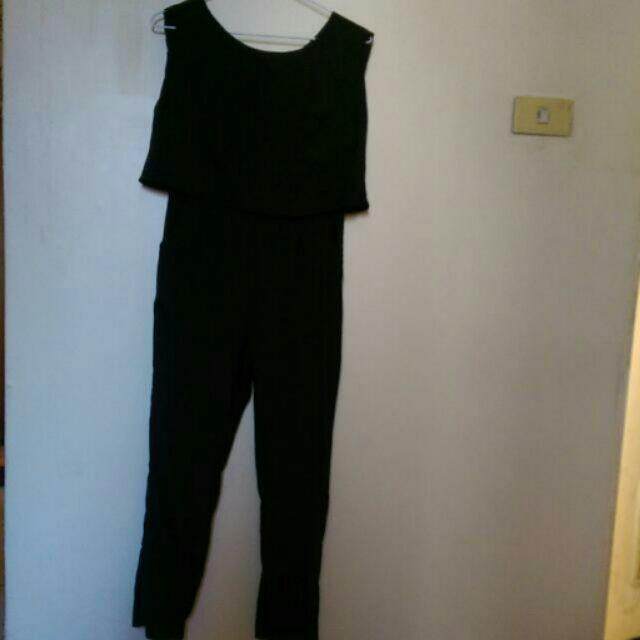Pants_Leggings: (130, 193, 344, 639)
Tops: (139, 1, 369, 212)
